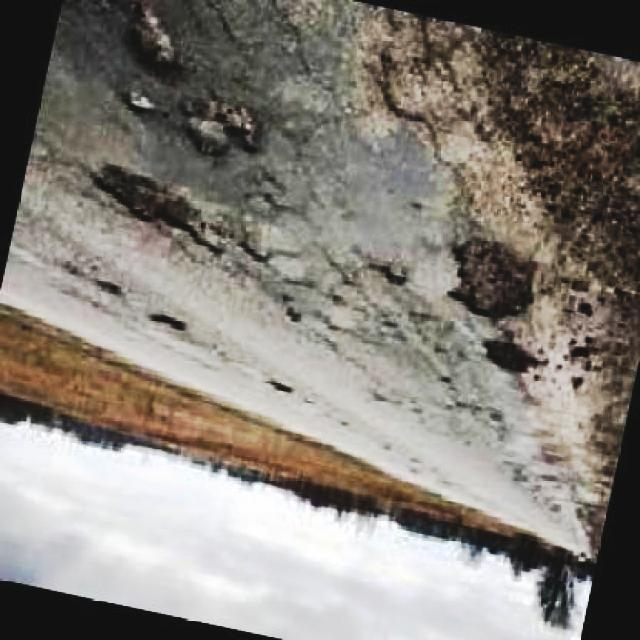pothole: (97, 157, 197, 237), (452, 232, 538, 323), (178, 94, 270, 155), (124, 1, 184, 78), (483, 334, 543, 377)
